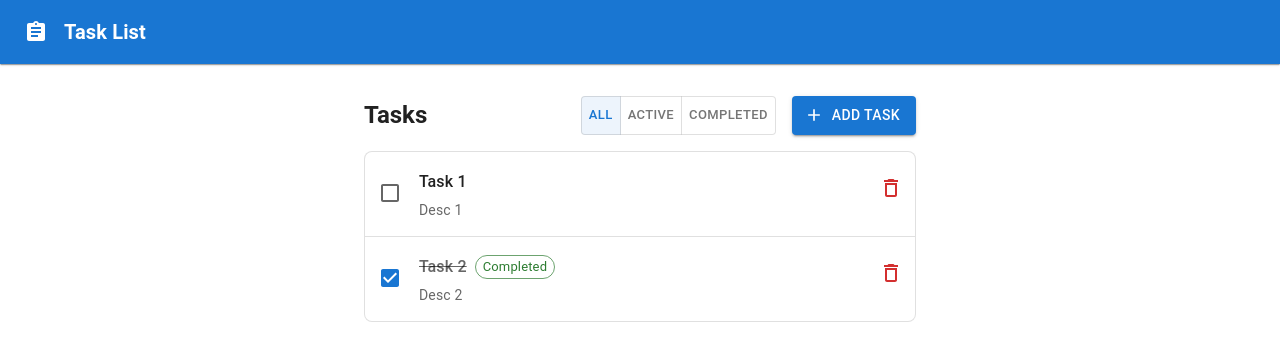
Scenario: TaskList Component › filters tasks correctly
Check: the text "Task 1" is shown, box top-left (419, 168), bottom-right (467, 196)
Click the button "Active". click: [651, 115]
box: top-left (620, 96), bottom-right (682, 135)
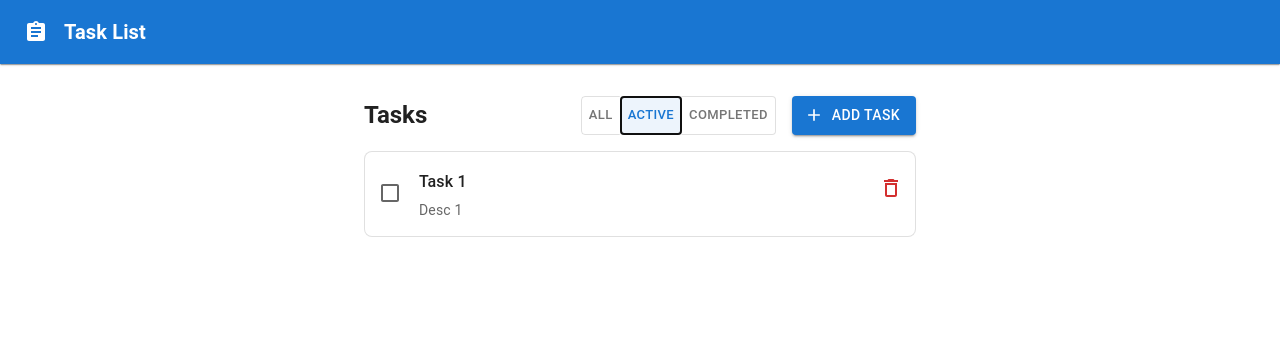
Check: the text "Task 1" is shown, box top-left (419, 168), bottom-right (467, 196)
Check: the text "Task 2" is gone
Click the button "Completed". click: [728, 115]
box: top-left (681, 96), bottom-right (776, 135)
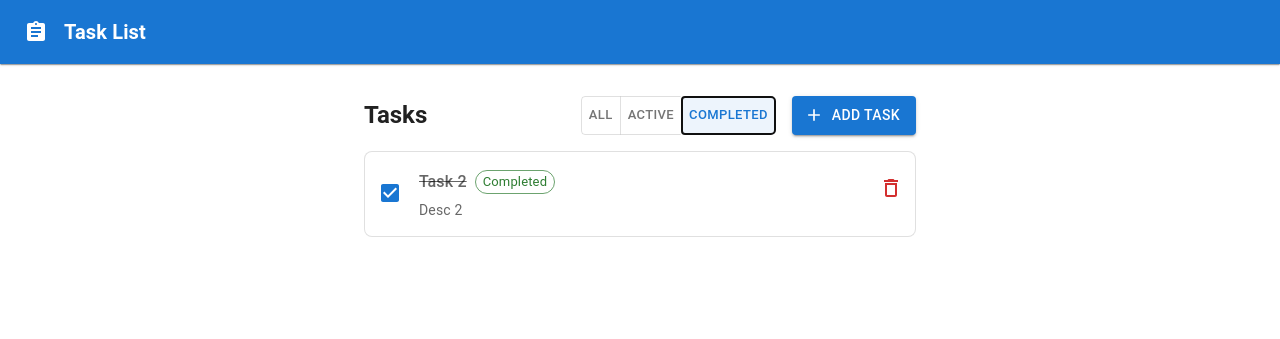
Check: the text "Task 1" is gone
Check: the text "Task 2" is shown, box top-left (419, 168), bottom-right (467, 196)
